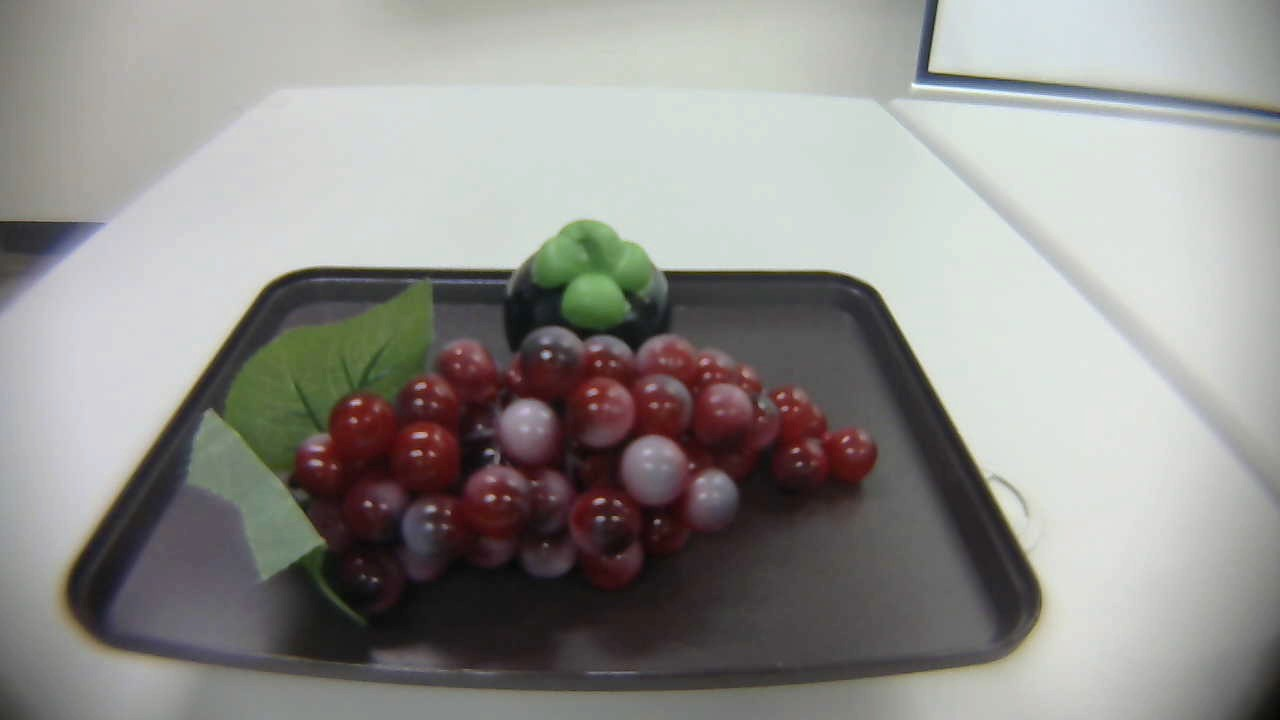grape: (183, 283, 889, 638)
mangosteen: (492, 219, 699, 363)
